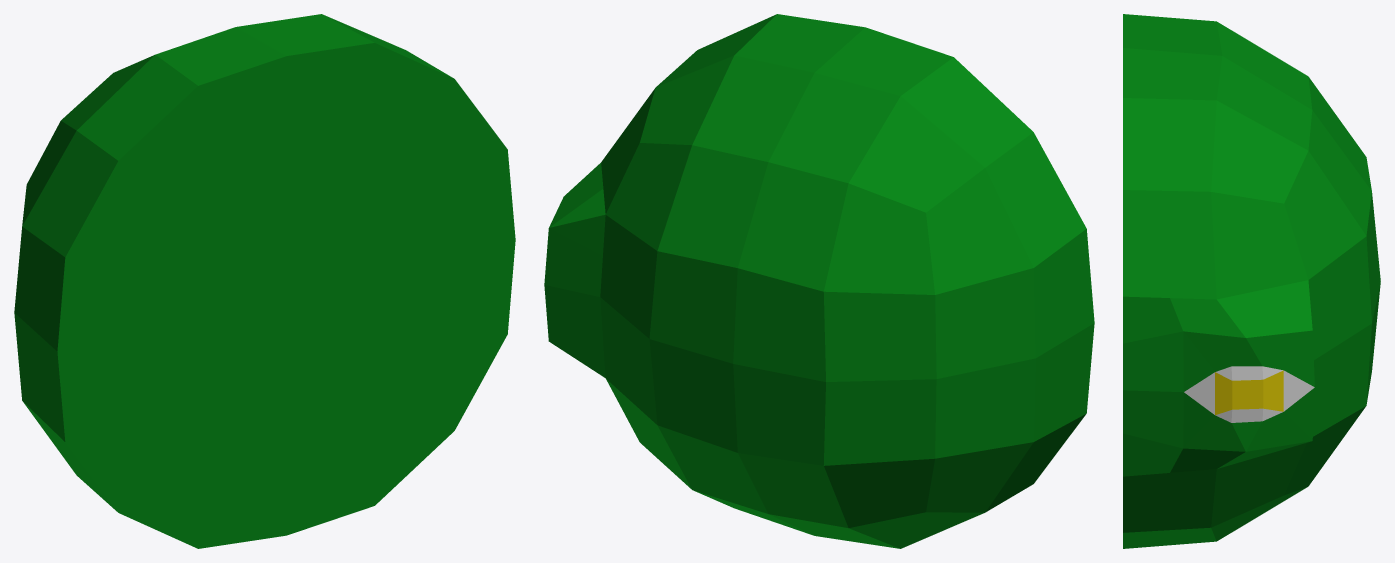
Rendered from Wrecker.fbx.
3 renders of one model, left to right at view 1: azimuth 30°, elevation 25°; view 2: azimuth 150°, elevation 25°; view 3: azimuth 270°, elevation 25°, orthographic. The views are drawn at different scales.
Parts seen in each view (by area): view 1: Cube; view 2: Cube; view 3: Cube.
Part boxes in pixels (x1,y1,x2,y2): Cube: [14, 14, 515, 548]; Cube: [544, 14, 1094, 548]; Cube: [1123, 14, 1380, 548].
Size of the model in its own units: 731 by 715 by 357.
